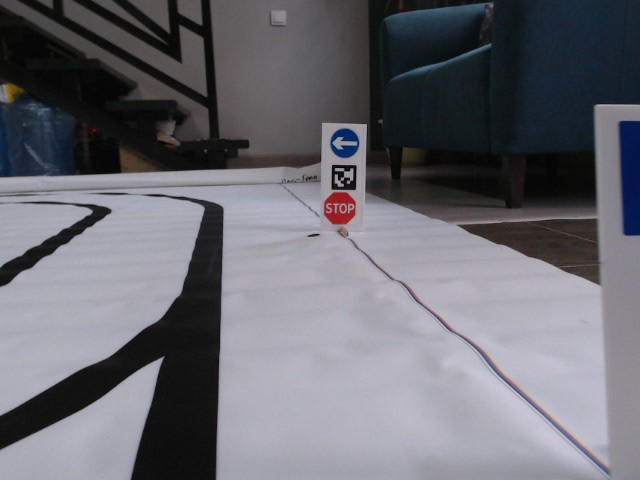Stop: (323, 192, 356, 225)
